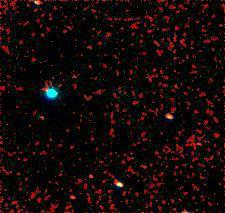star: (60, 178, 90, 208)
